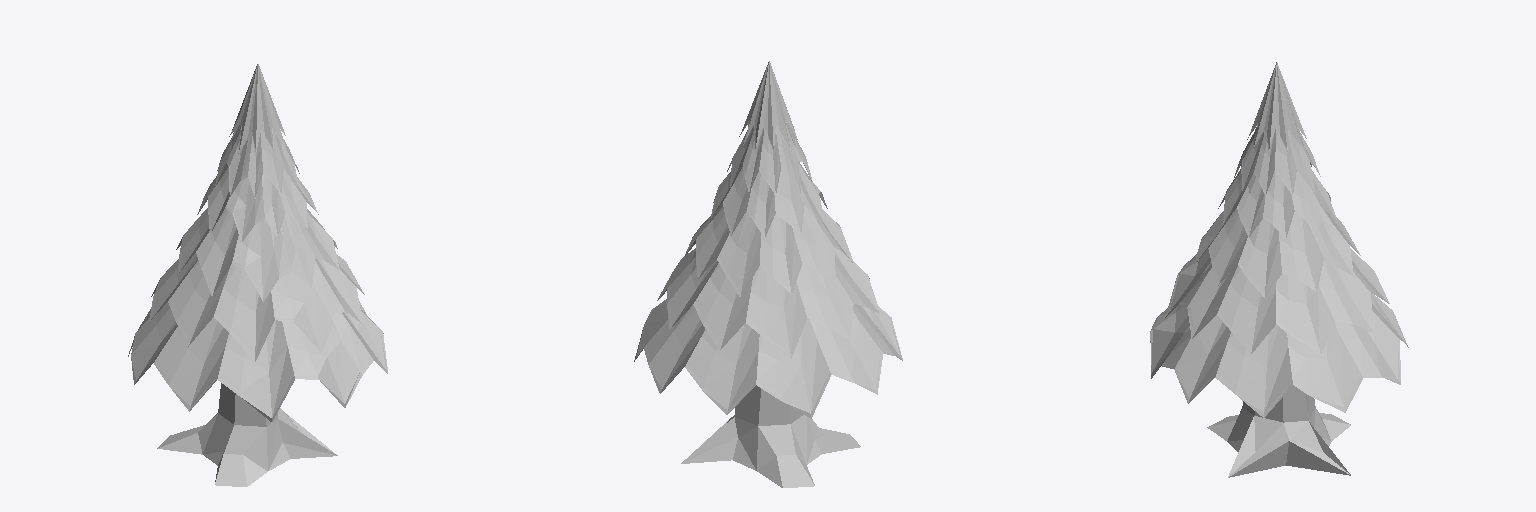
The model's file is Pinetree19.obj.
3 views of the same model, side by side, from view 1: azimuth 30°, elevation 25°; view 2: azimuth 150°, elevation 25°; view 3: azimuth 270°, elevation 25° (orthographic).
Parts seen in each view (by area): view 1: Pinetree19; view 2: Pinetree19; view 3: Pinetree19.
Part boxes in pixels (x1,y1,x2,y2): Pinetree19: (128, 64, 387, 486); Pinetree19: (634, 61, 902, 487); Pinetree19: (1150, 62, 1408, 477).
Bounding box in the file's own units: 1.72 × 2.76 × 1.66.